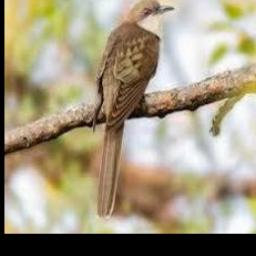Cuckoo: (94, 0, 175, 219)
